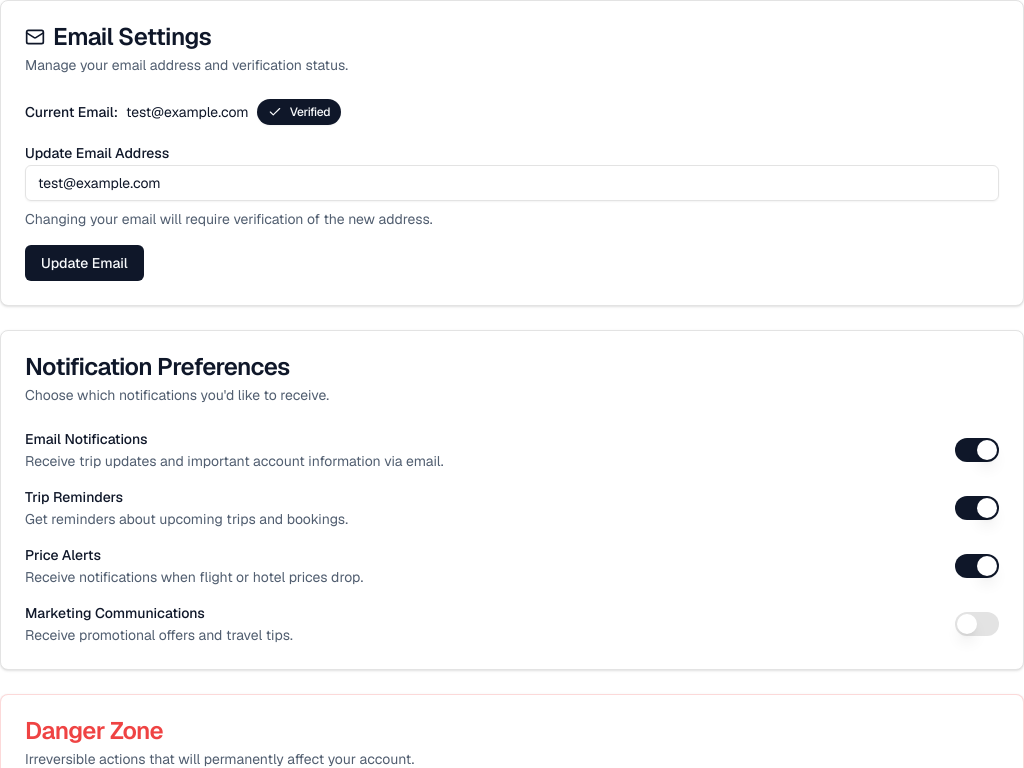
Test: AccountSettingsSection › shows loading state during email update
Click the button "Update Email".
click(84, 263)  # box x1=25 y1=245 x2=144 y2=281
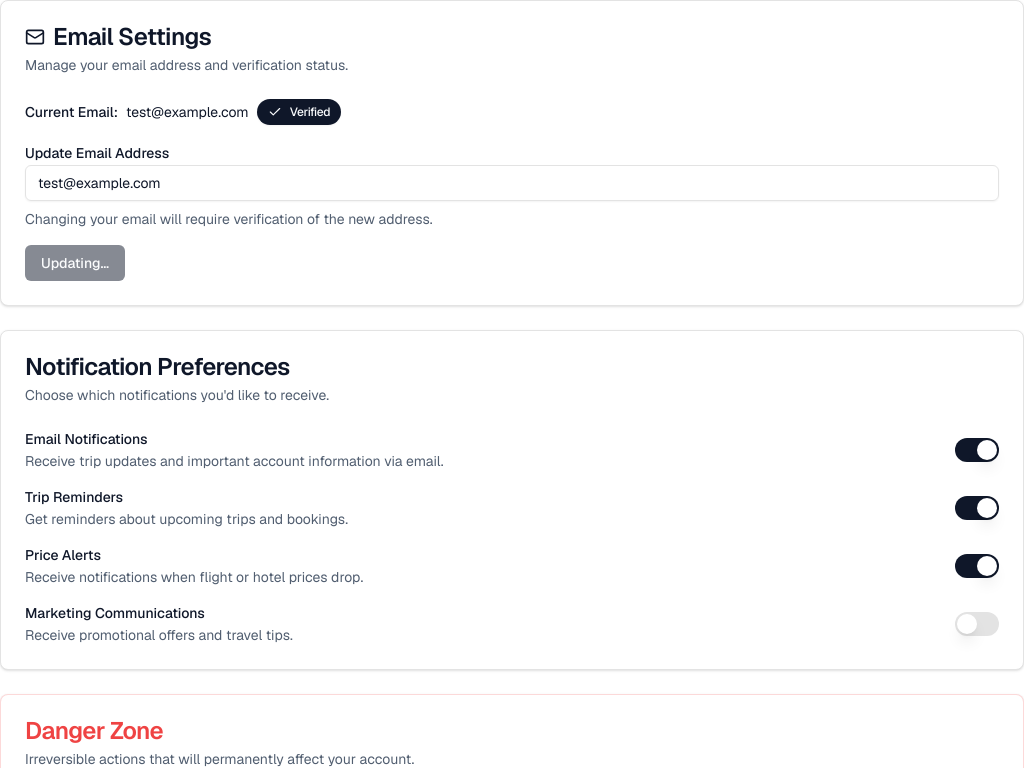
Now the button "Updating…" is shown, box x1=25 y1=245 x2=125 y2=281
